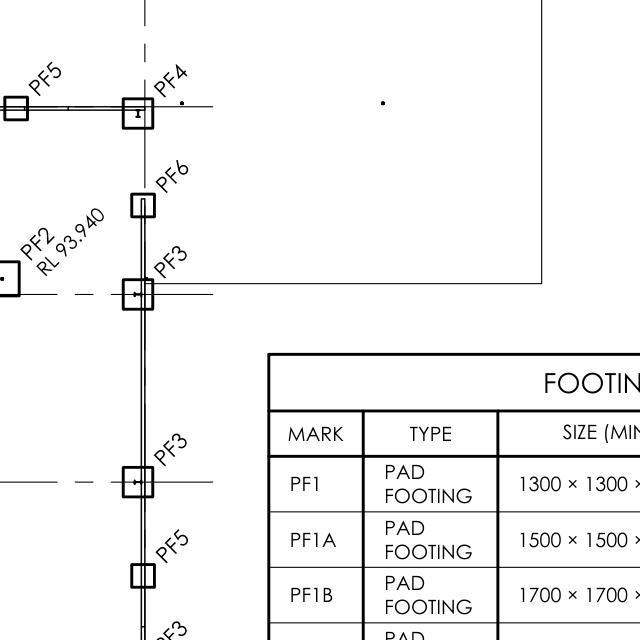PF2: (1, 215, 49, 255)
PF3: (149, 421, 198, 469), (151, 242, 194, 281), (154, 615, 187, 640)
PF4: (140, 50, 196, 96)
PF5: (25, 53, 72, 99), (150, 525, 193, 564)
PF6: (149, 153, 198, 192)
